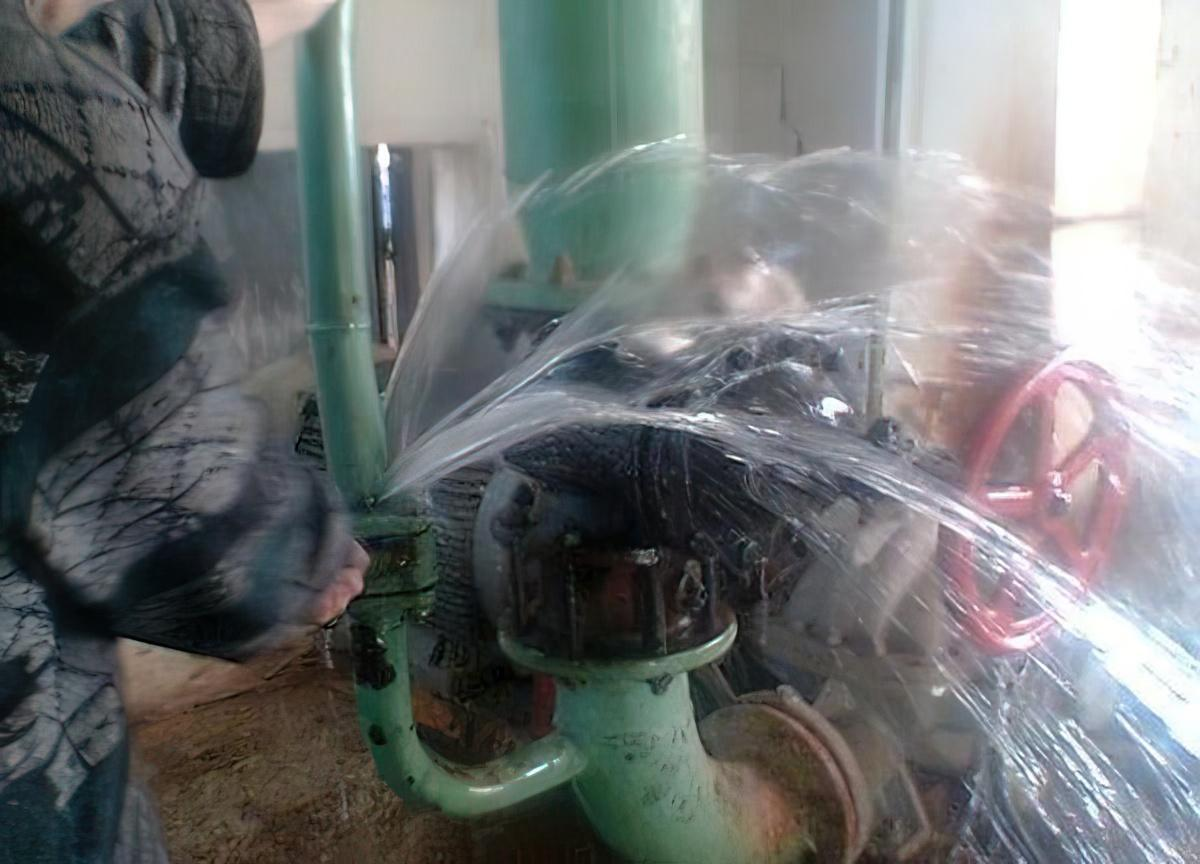pipe burst: (361, 144, 1200, 864)
